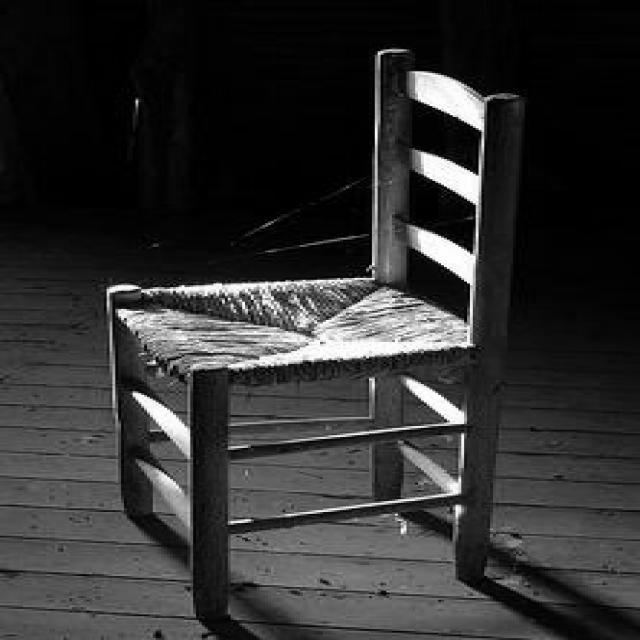chair: (106, 51, 541, 624)
